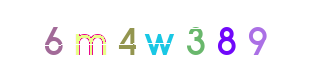3: (120, 0, 200, 80)
4: (117, 0, 197, 80)
6: (51, 0, 131, 80)
8: (122, 0, 202, 80)
9: (186, 0, 266, 80)
M: (70, 0, 150, 80)
W: (119, 0, 199, 80)
